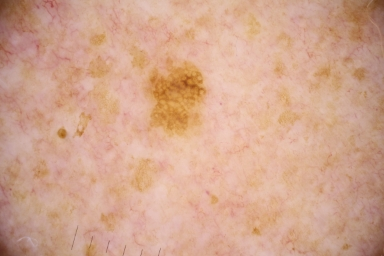seborrheic keratosis: (75, 11, 302, 204)
